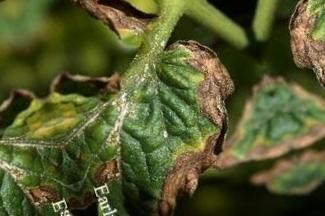Tomato Early blight leaf: (42, 30, 274, 216)
